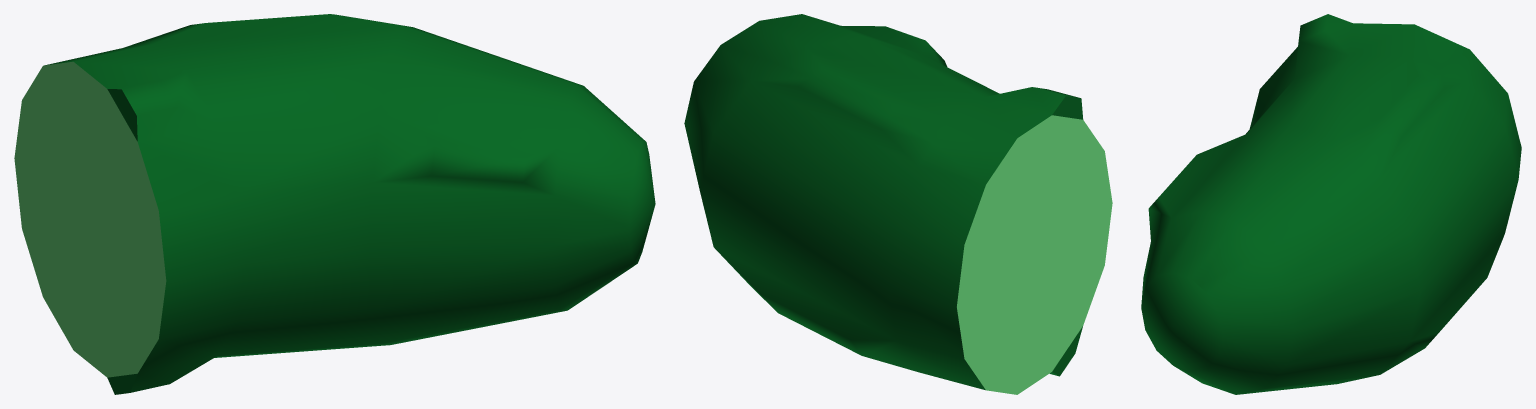
File: mesh_Pickle_Stage09.fbx
3 renders of one model, left to right at view 1: azimuth 30°, elevation 25°; view 2: azimuth 150°, elevation 25°; view 3: azimuth 270°, elevation 25°, orthographic. The views are drawn at different scales.
Parts seen in each view (by area): view 1: mesh_Pickle_Stage09; view 2: mesh_Pickle_Stage09; view 3: mesh_Pickle_Stage09.
Part boxes in pixels (bbox=[...]): mesh_Pickle_Stage09: bbox=[14, 14, 655, 394]; mesh_Pickle_Stage09: bbox=[684, 14, 1112, 394]; mesh_Pickle_Stage09: bbox=[1141, 14, 1521, 394].
Bounding box in the file's own units: 0.0553 × 0.0349 × 0.0461.
